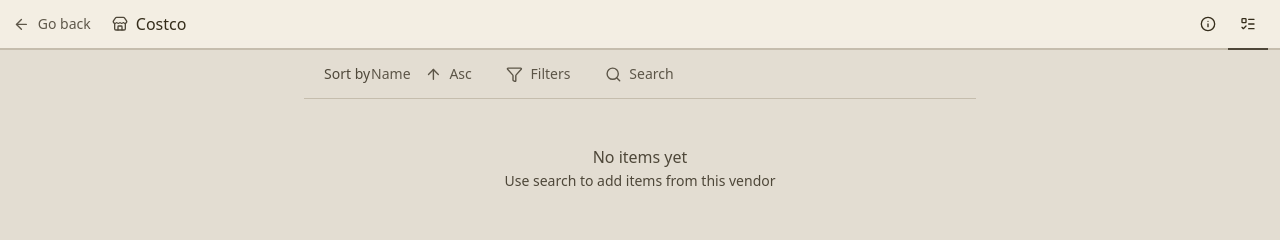
Test: Vendor Detail - Items Tab › user sees the new item in the list after creating from search
The image size is (1280, 240).
Note: When user opens the search panel
Click the button with aria-label "toggle search": [639, 74] box [592,58,687,90]
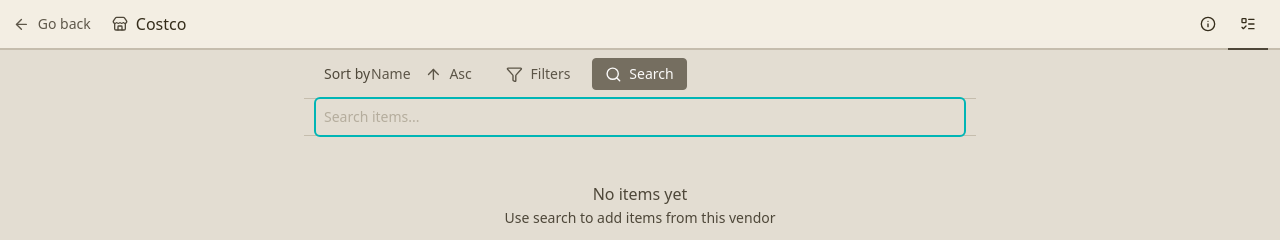
Expected: the field with placeholder "Search items..." is shown
Note: When user types a name that has zero matches
In the field with placeholder "Search items...": [640, 117] box [316,99,964,135], type "brand new item"
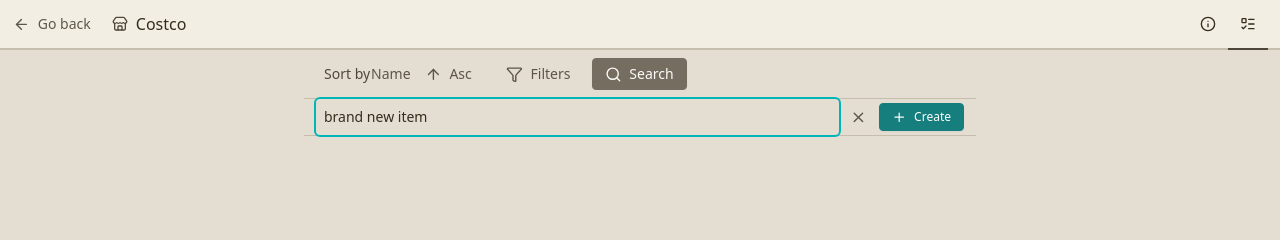
Expected: the button with aria-label "create item" is shown
Note: When user clicks the create button
Click the button with aria-label "create item": [921, 117] box [879,103,964,131]
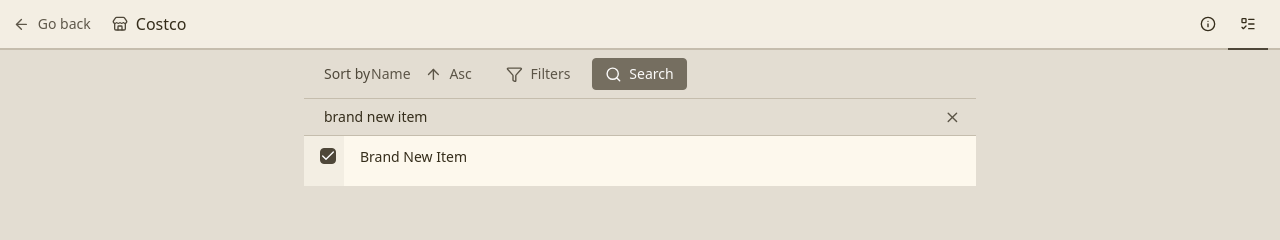
Expected: the checkbox named "Remove brand new item" is shown, [320,148,336,164]
